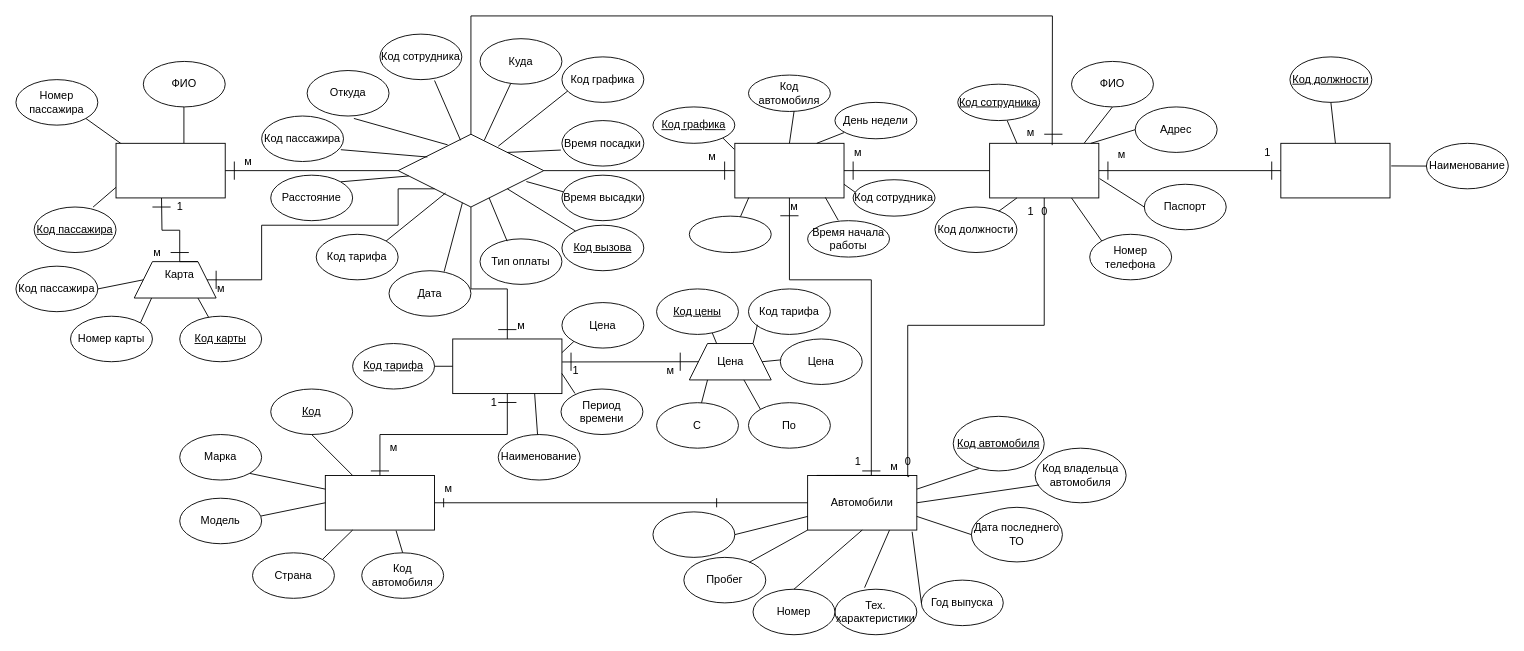
Image size: 1524x651. Some labels were removed from this diagram. The box of each missing label's shape, as (x1, y1, x2, y2) in pixels:
Время конца работы: (688, 215, 771, 253)
Вызов: (397, 133, 544, 207)
График работы: (734, 142, 844, 198)
Должность: (1280, 142, 1390, 198)
Клиент: (115, 142, 225, 198)
Модель автомобиля: (324, 475, 435, 530)
Сотрудник: (989, 142, 1099, 198)
Стоимость: (652, 511, 735, 557)
Тариф: (452, 338, 562, 394)
